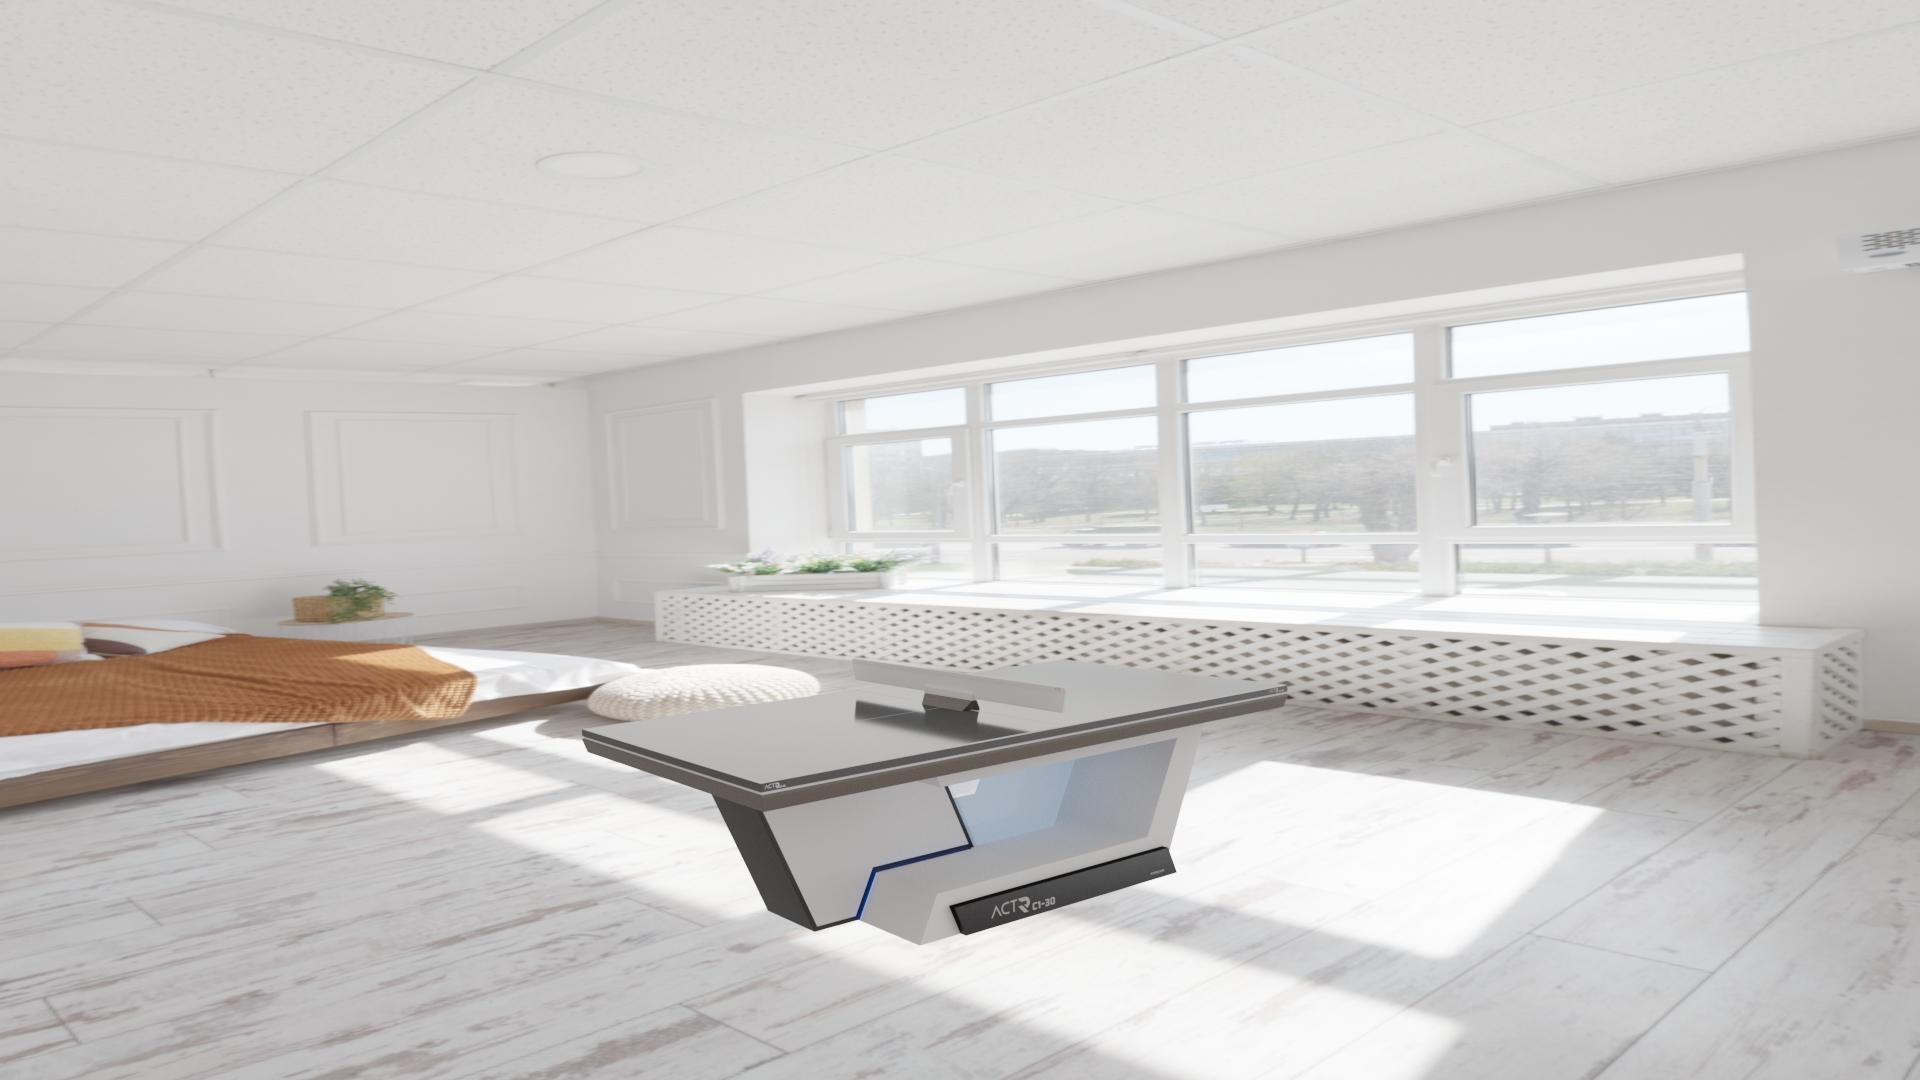table: (588, 661, 1282, 782)
